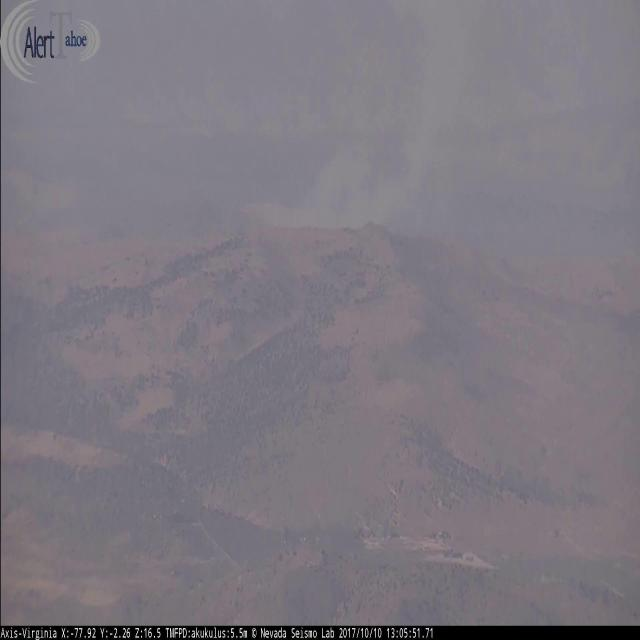smoke: (243, 0, 484, 224)
